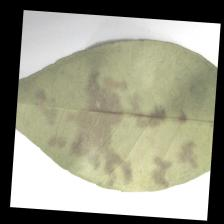black spot: (35, 66, 167, 167)
